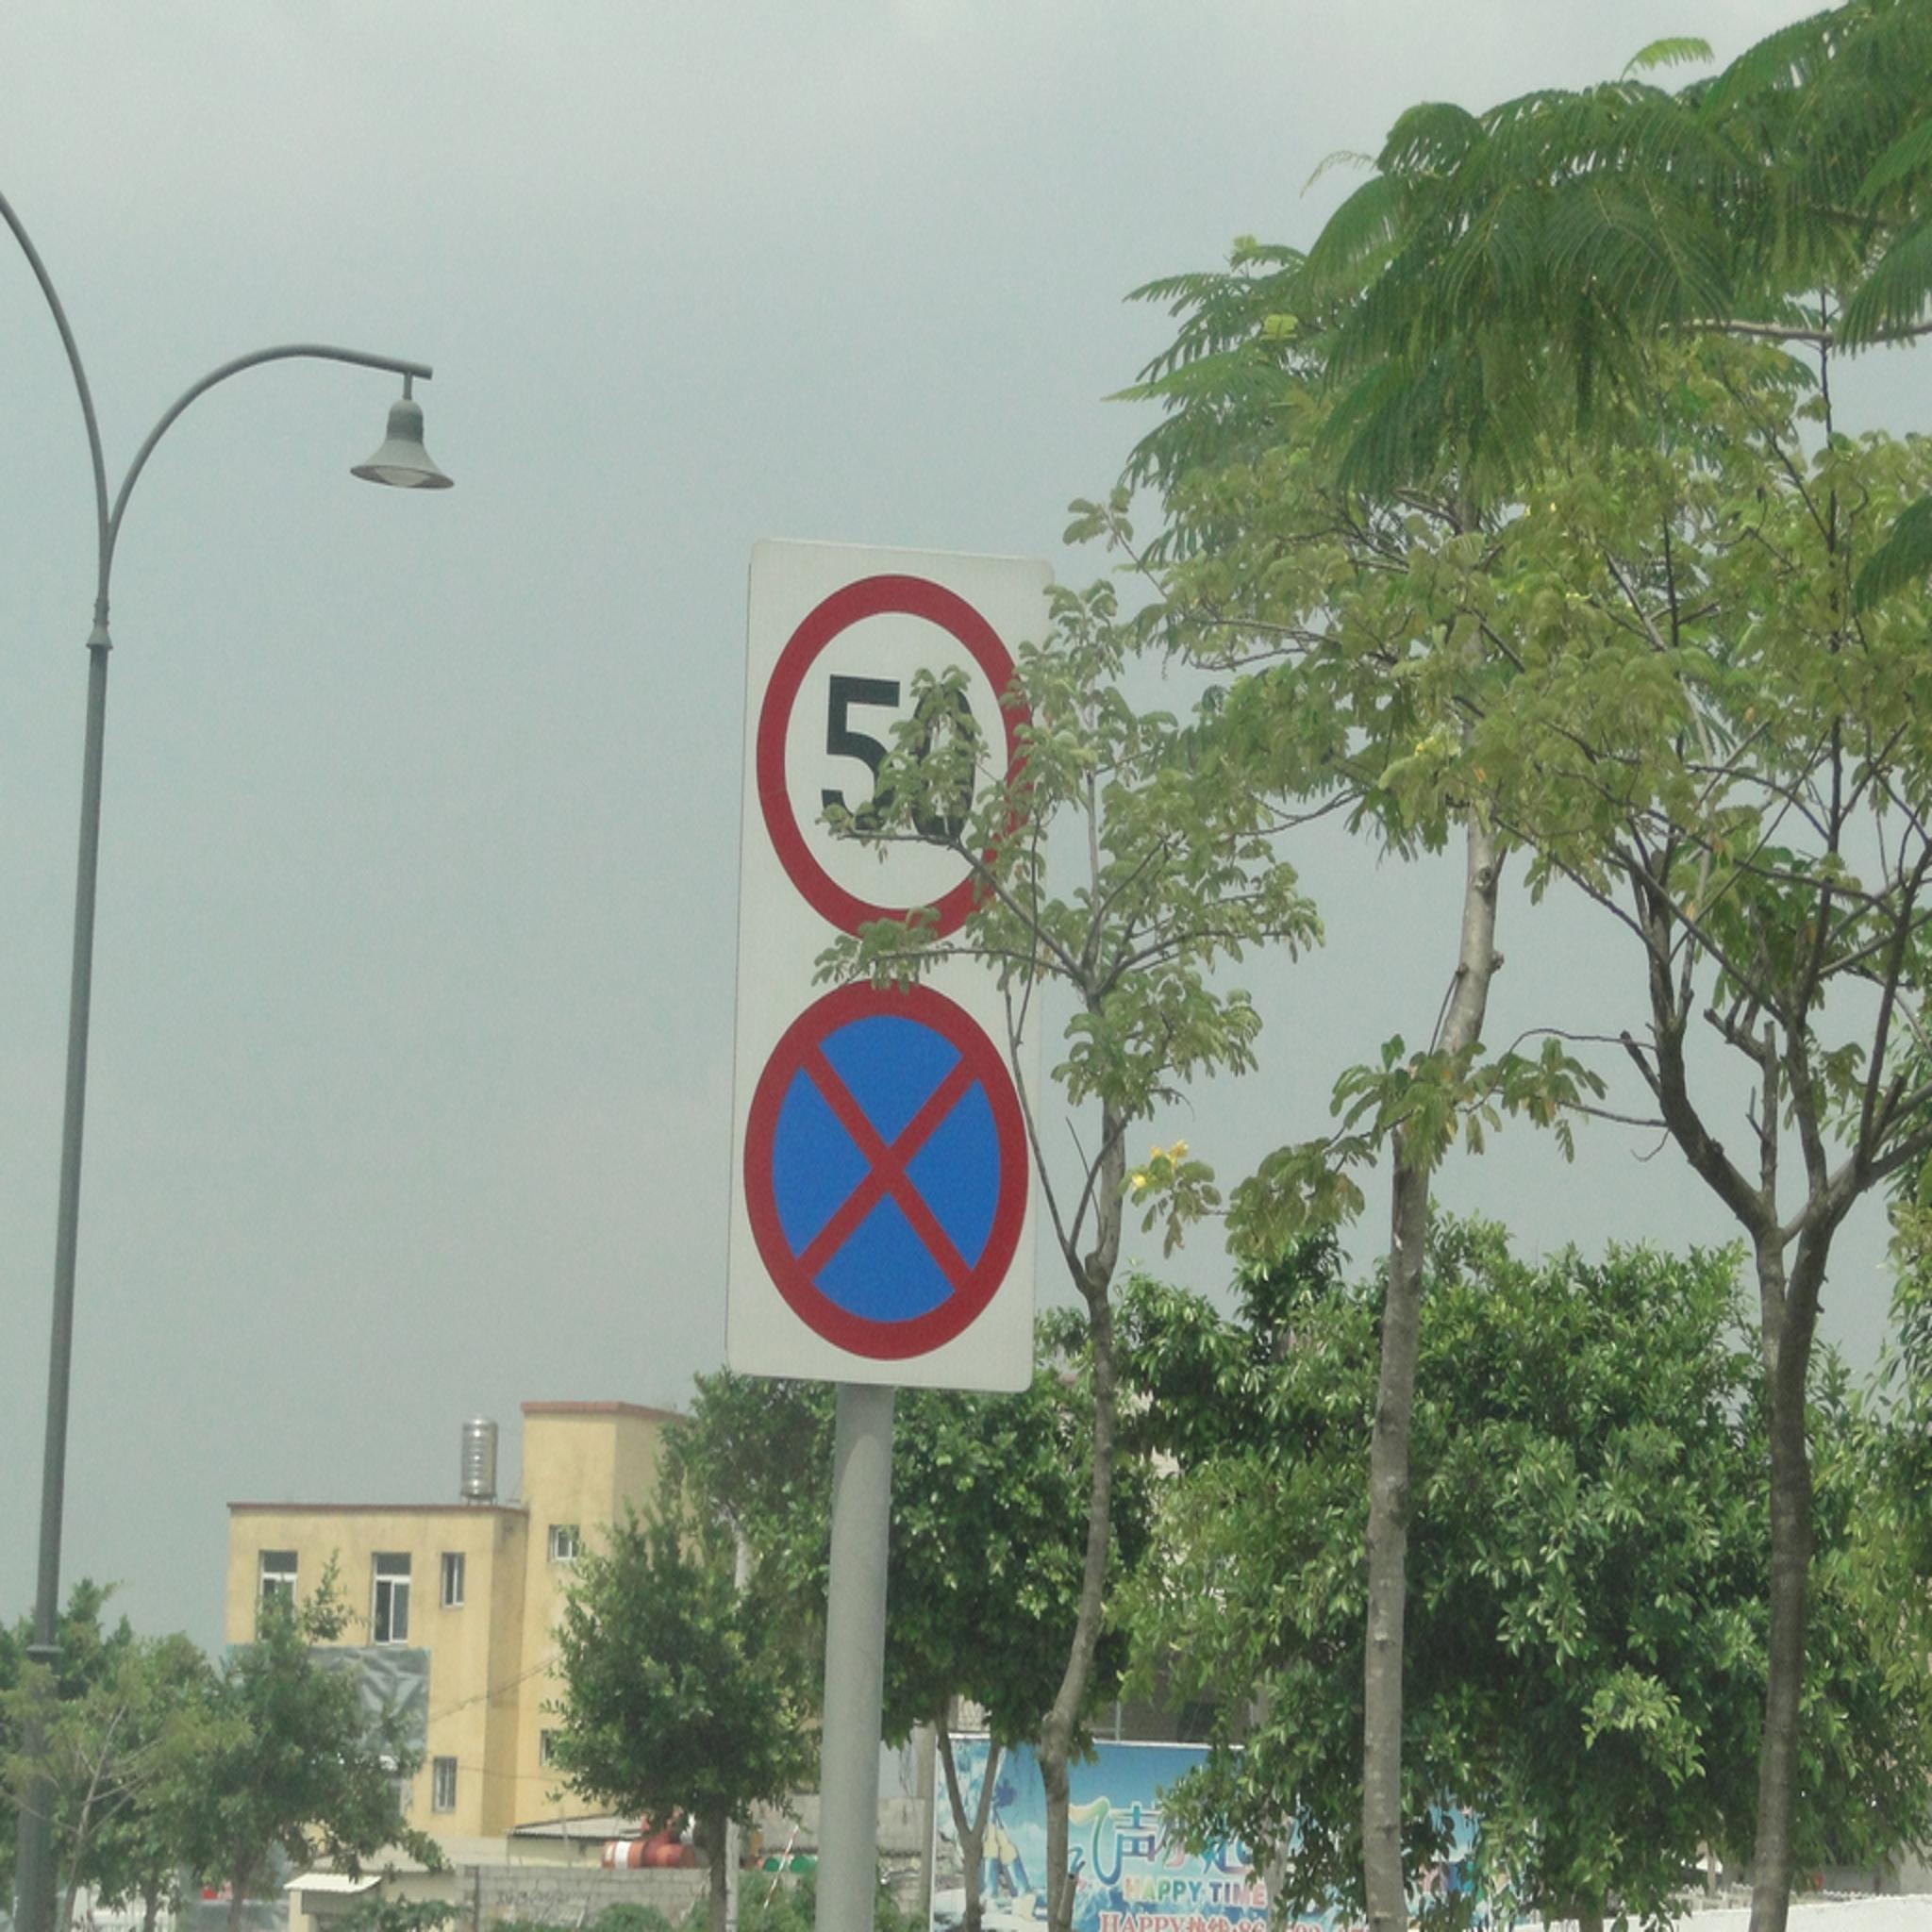pl50: (763, 568, 1049, 966)
pn: (757, 982, 1024, 1375)
